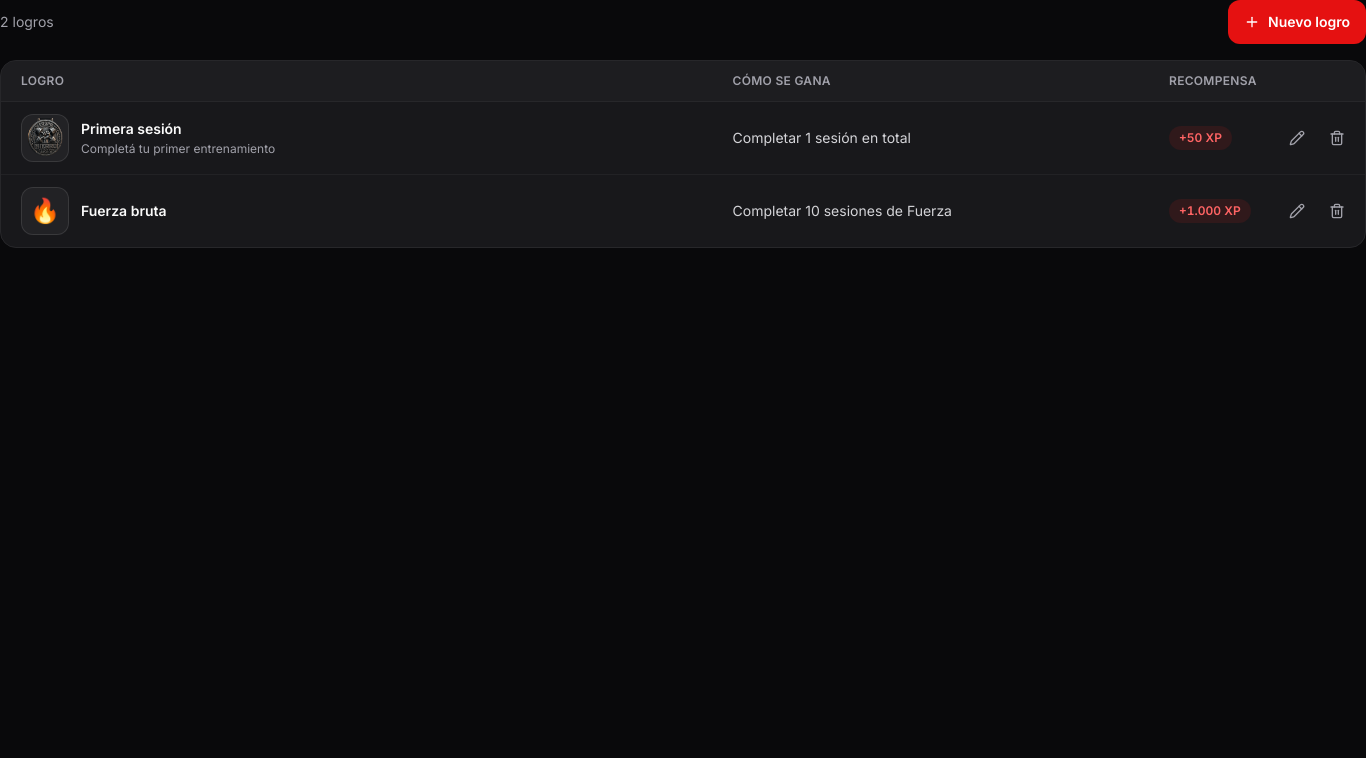
Test case: AchievementList › edit › opens the form for the clicked row with its values
The image size is (1366, 758).
Click the button named "Editar Fuerza bruta". click: (1297, 211)
box: top-left (1277, 191), bottom-right (1317, 231)
(page scrolled)
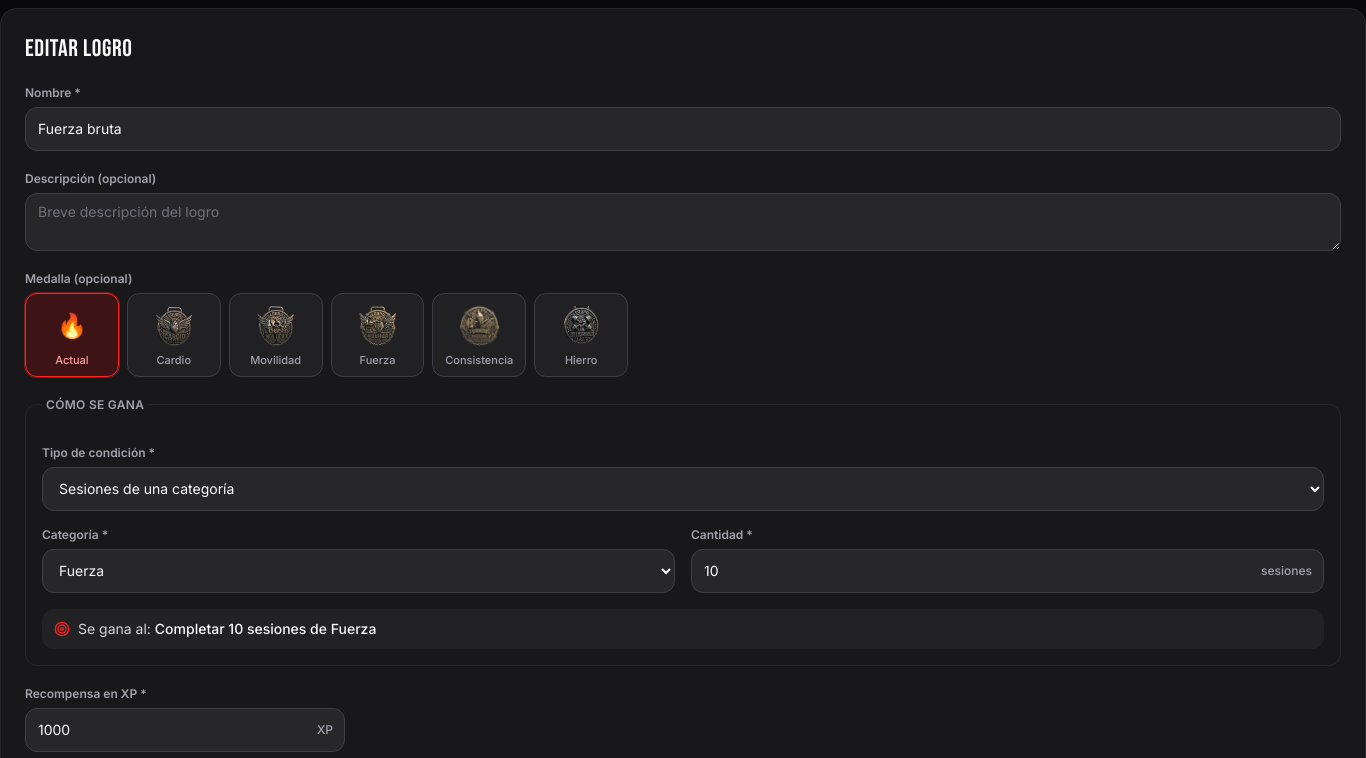
Expected: the heading "Editar logro" is shown, top-left (25, 34), bottom-right (132, 63)
Expected: the field labelled "Nombre *" holds "Fuerza bruta", top-left (25, 107), bottom-right (1341, 151)
Expected: the number field labelled "Recompensa en XP *" holds "1000", top-left (25, 708), bottom-right (345, 752)
